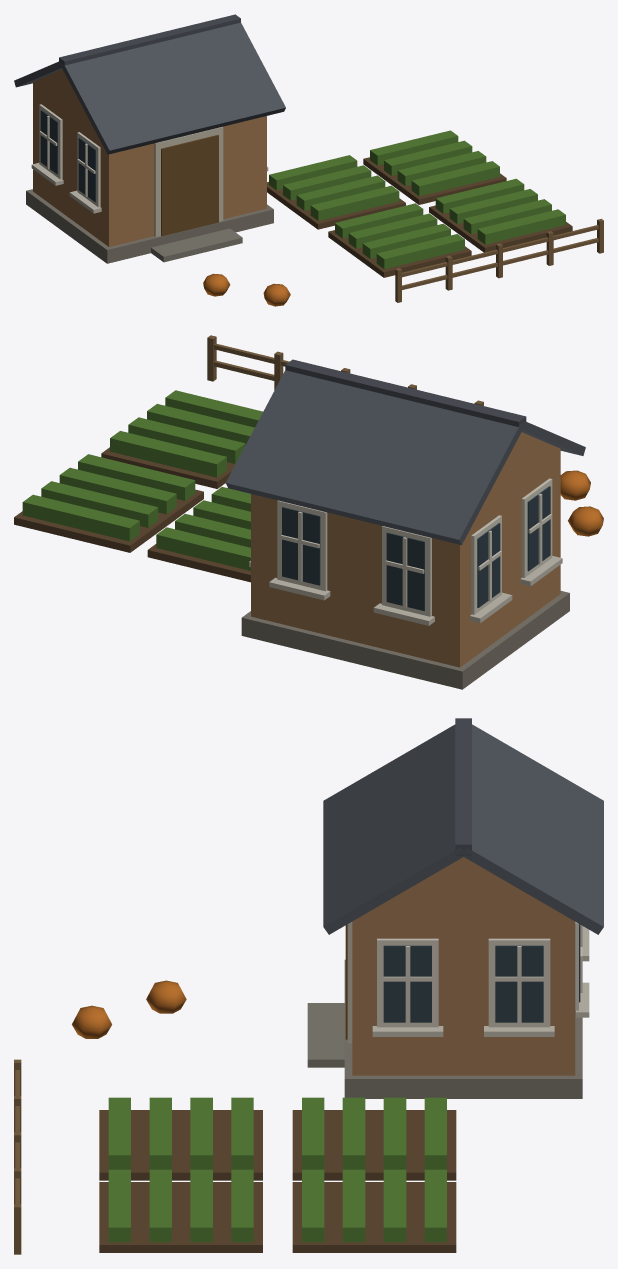
The model's file is procedural_vegetable_garden@5.glb.
3 renders of one model, top to bottom at view 1: azimuth 30°, elevation 25°; view 2: azimuth 150°, elevation 25°; view 3: azimuth 270°, elevation 25°, orthographic. The views are drawn at different scales.
Visible parts, largest first — view 1: part_0; view 2: part_0; view 3: part_0.
Part boxes in pixels (x1,y1,x2,y2): part_0: (14,14,603,306); part_0: (14,335,603,689); part_0: (14,718,603,1254).
Bounding box in the file's own units: 8.86 × 3.83 × 7.94.
